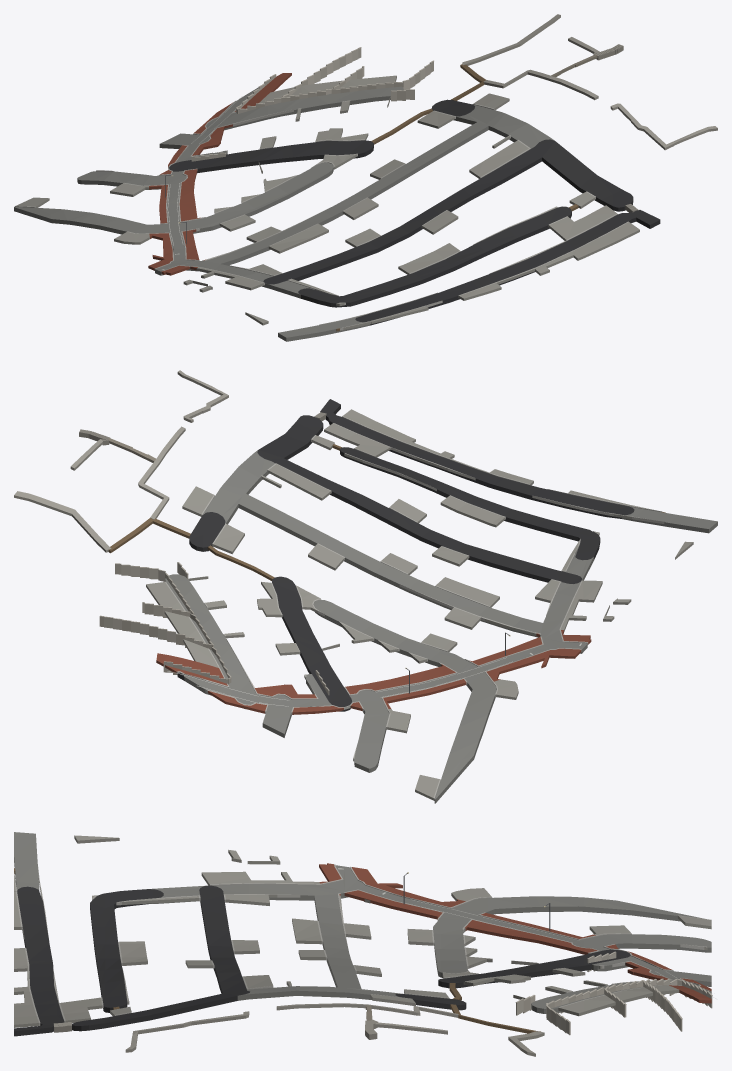
File: 18-218864-118952.6e8b3fce.glb
The picture shows the model from 3 angles, top to bottom: view 1: azimuth 30°, elevation 25°; view 2: azimuth 150°, elevation 25°; view 3: azimuth 270°, elevation 25°; orthographic projection. The views are drawn at different scales.
Bounding box in the file's own units: 147 × 43.39 × 147.
